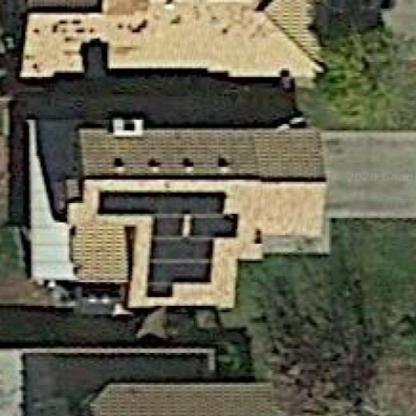solar_panel: (92, 175, 241, 302)
